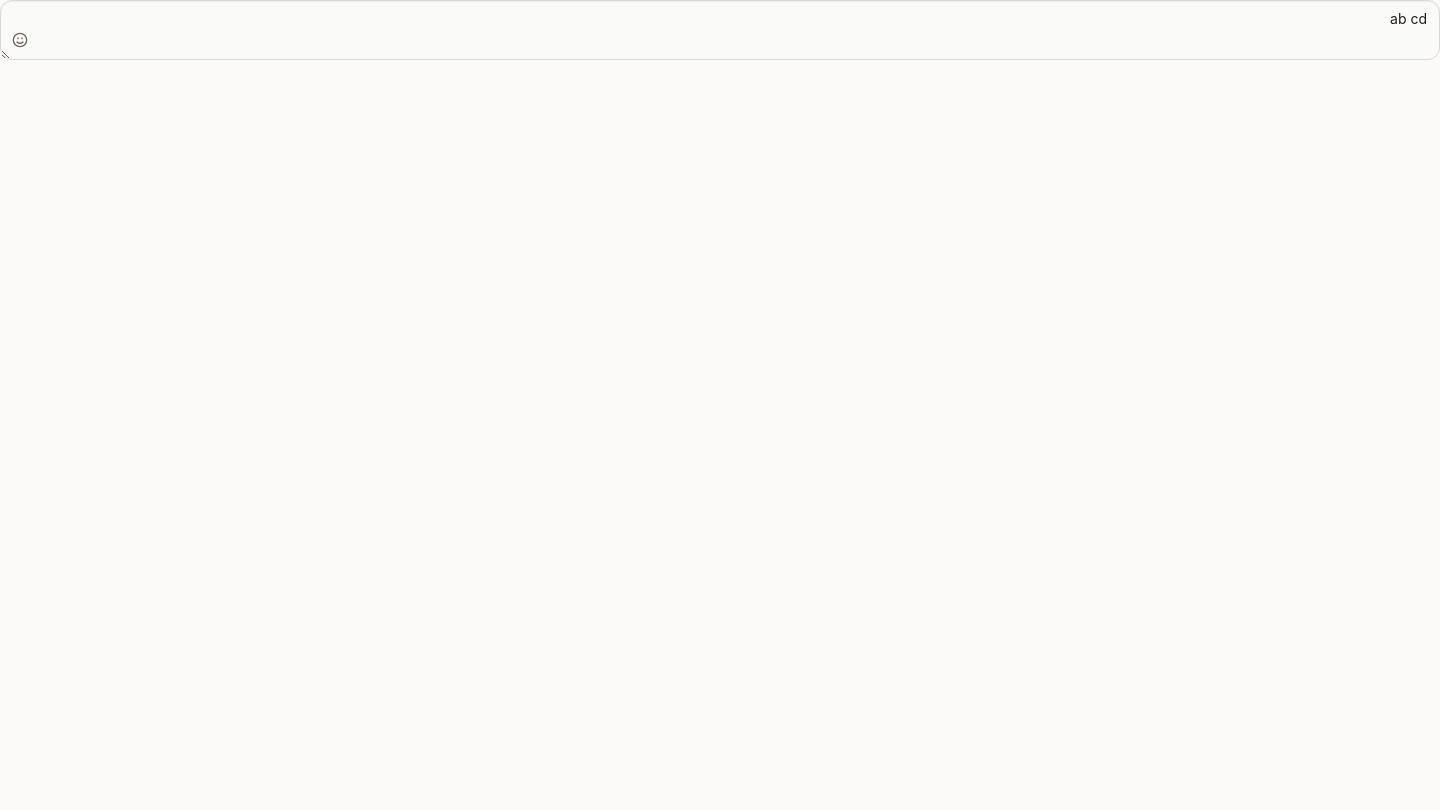
Test: inside EmojiProvider › after the user placed the caret mid-text, the emoji goes at the caret (not the end)
Click the text box named "msg" at (720,30), box [0,0,1439,60]
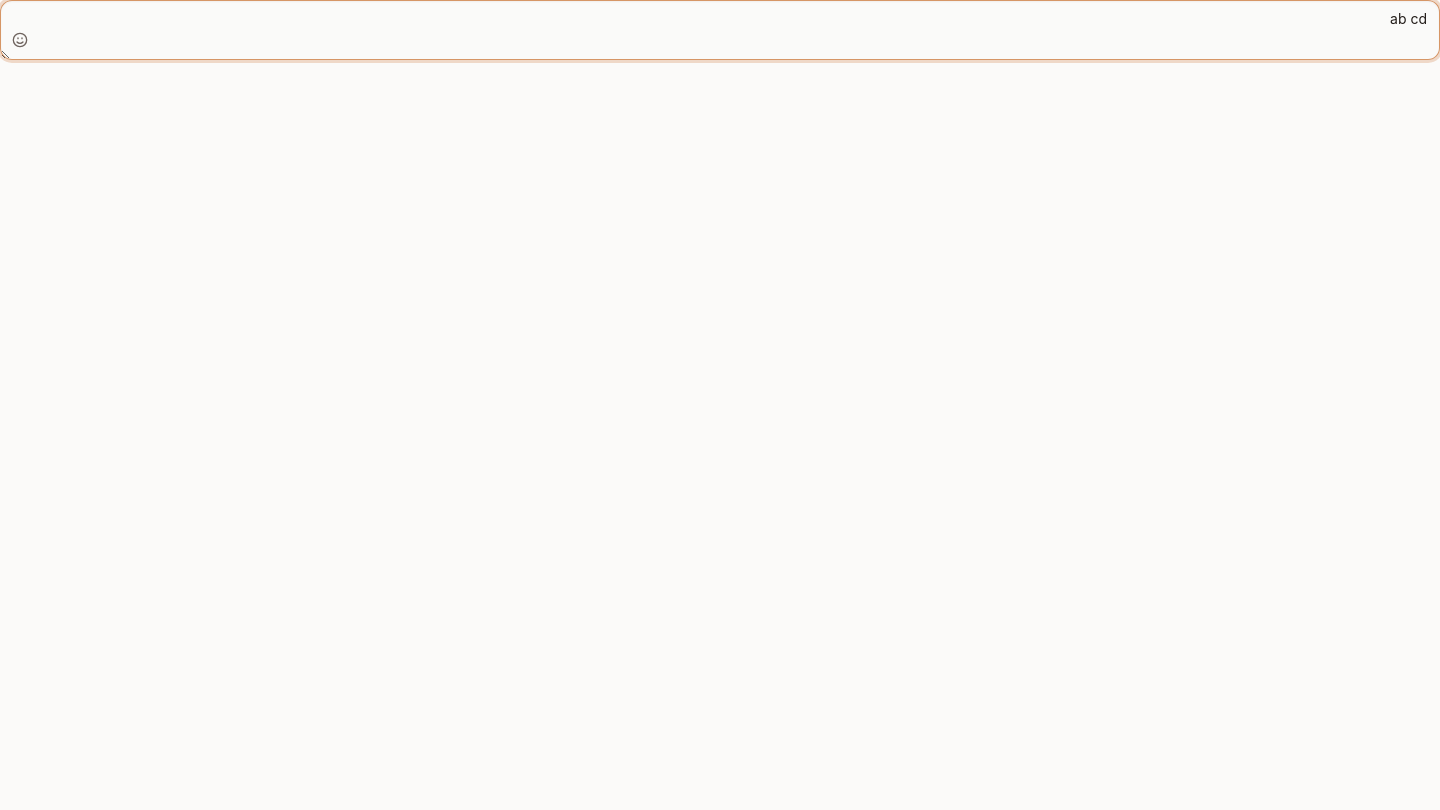
Click the button with test id "emoji-picker-trigger" at (20,40), box [6,26,34,54]
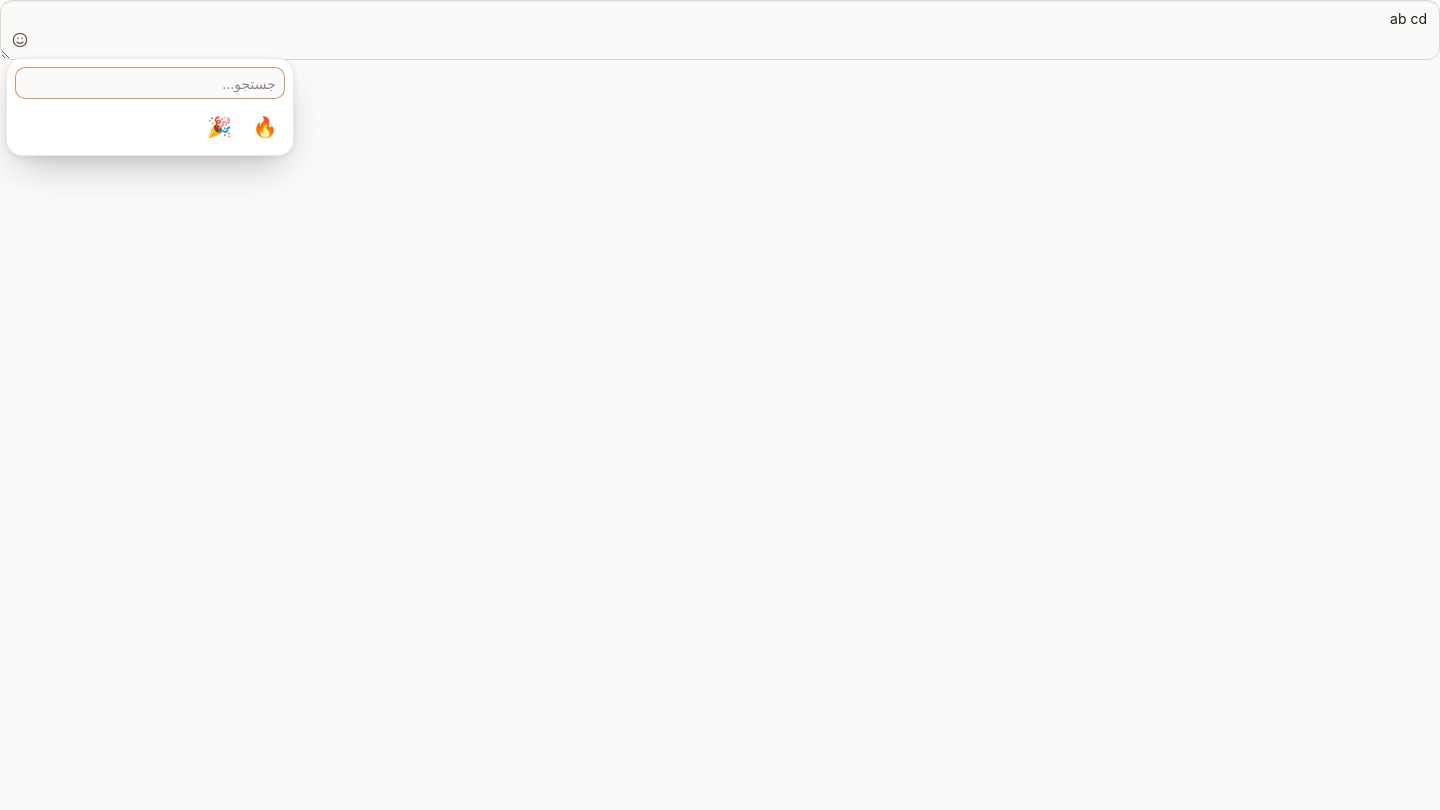
Click the option "🔥" at (265,127), box [245,107,285,147]
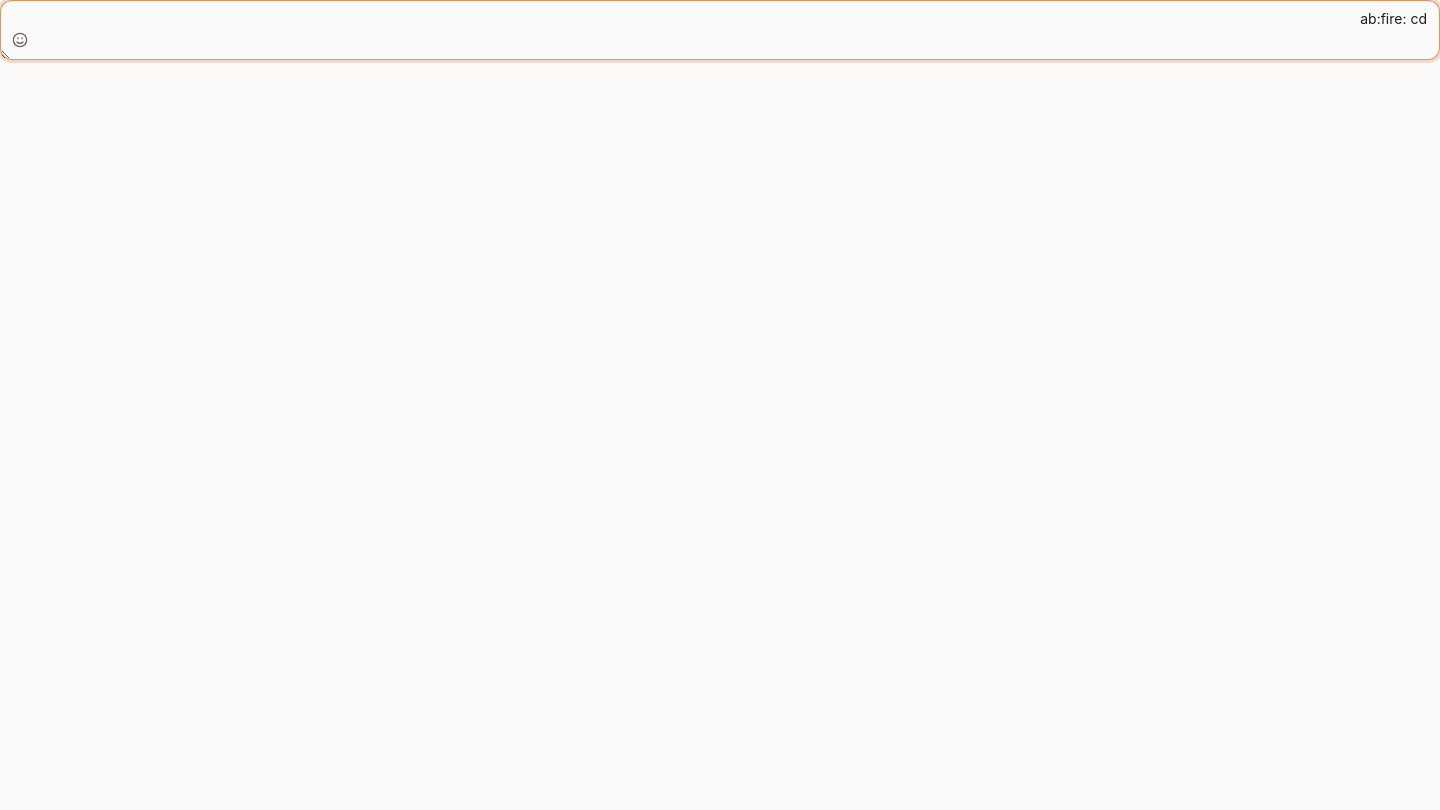
Expected: the text box named "msg" holds "ab:fire: cd", [0,0,1439,60]
